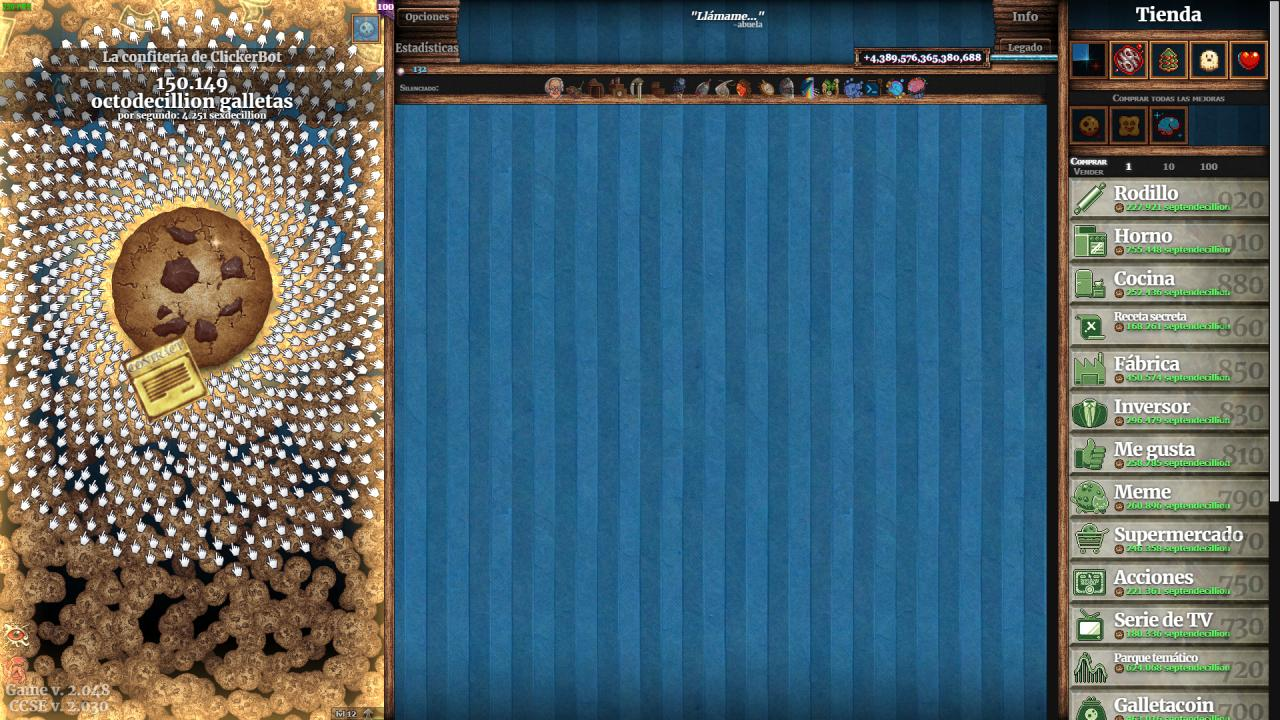GoldenCartridge: (120, 333, 213, 423)
